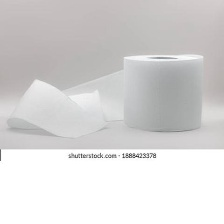tissue: (1, 47, 209, 142)
